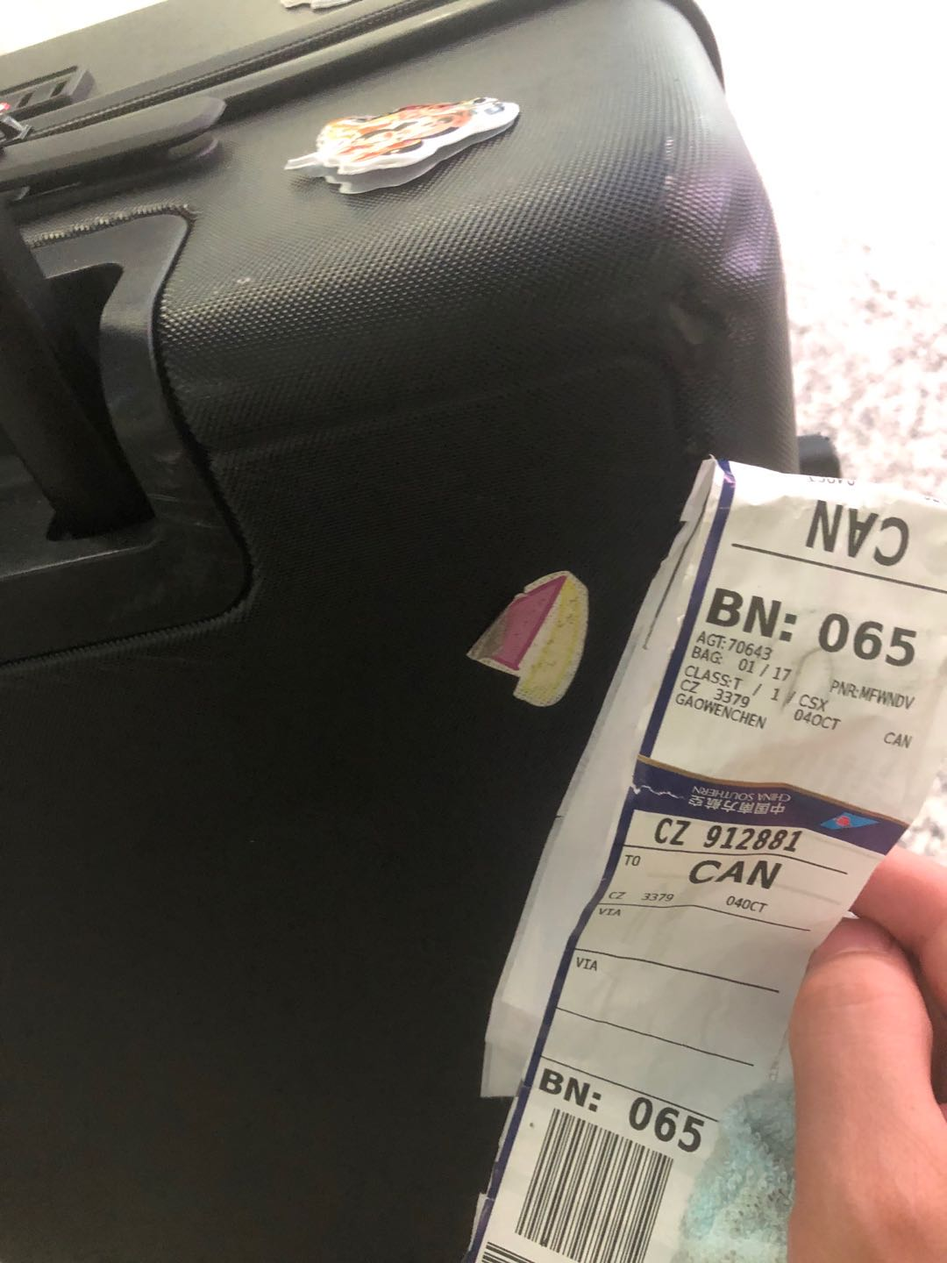rupture: (708, 183, 773, 280)
